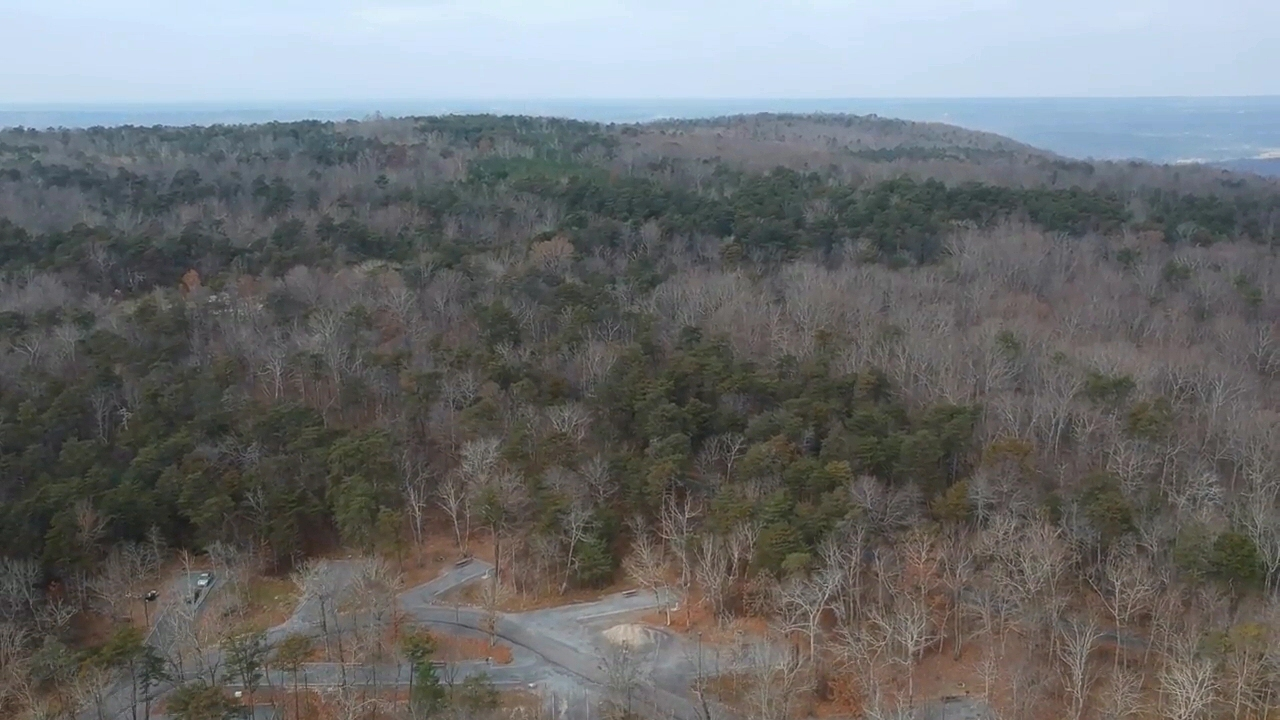araba: (196, 568, 212, 586)
